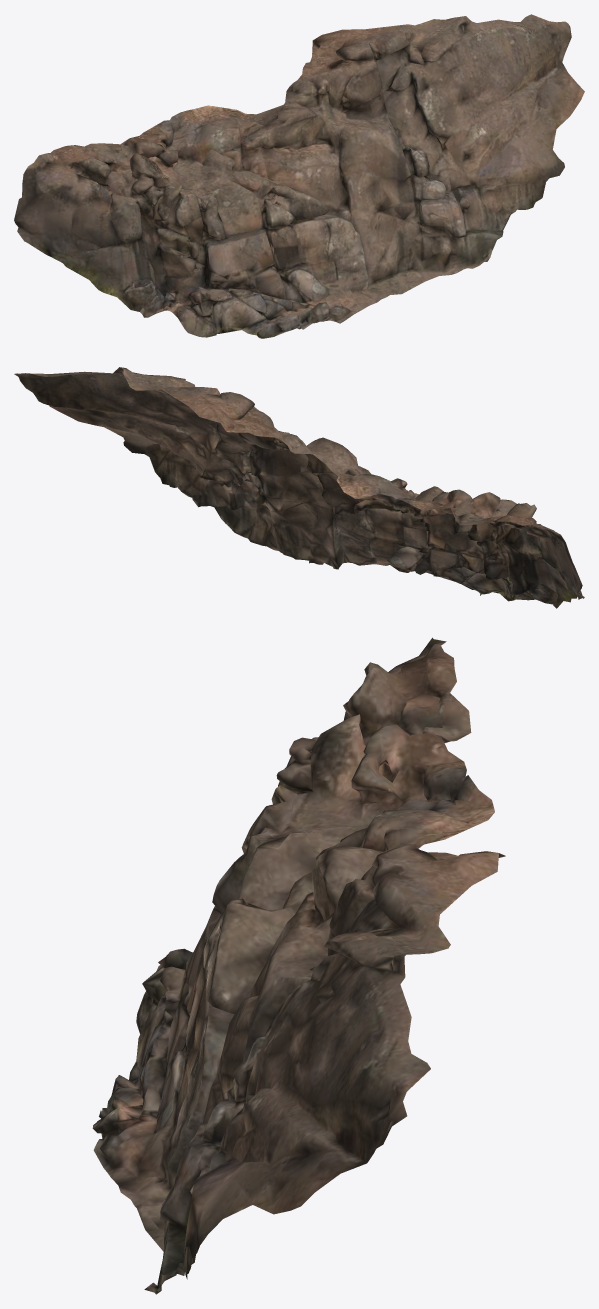
Rendered from cliffB.glb.
3 renders of one model, top to bottom at view 1: azimuth 30°, elevation 25°; view 2: azimuth 150°, elevation 25°; view 3: azimuth 270°, elevation 25°, orthographic. The views are drawn at different scales.
Parts seen in each view (by area): view 1: drone_rock_02_LOD0; view 2: drone_rock_02_LOD0; view 3: drone_rock_02_LOD0.
Part boxes in pixels (bbox=[...]): drone_rock_02_LOD0: bbox=[14, 14, 584, 338]; drone_rock_02_LOD0: bbox=[14, 367, 584, 608]; drone_rock_02_LOD0: bbox=[92, 637, 505, 1294].
Bounding box in the file's own units: 20.22 × 7.17 × 6.58.
Materials: 1 (1 with a texture image).
